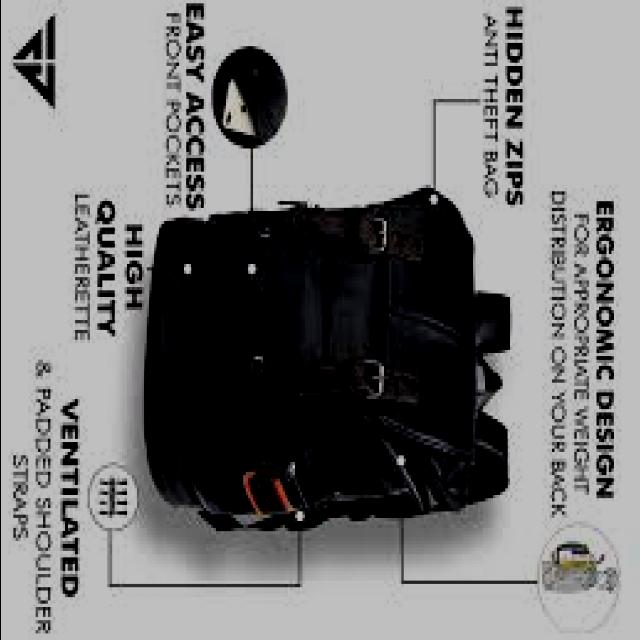backpack: (145, 186, 513, 532)
